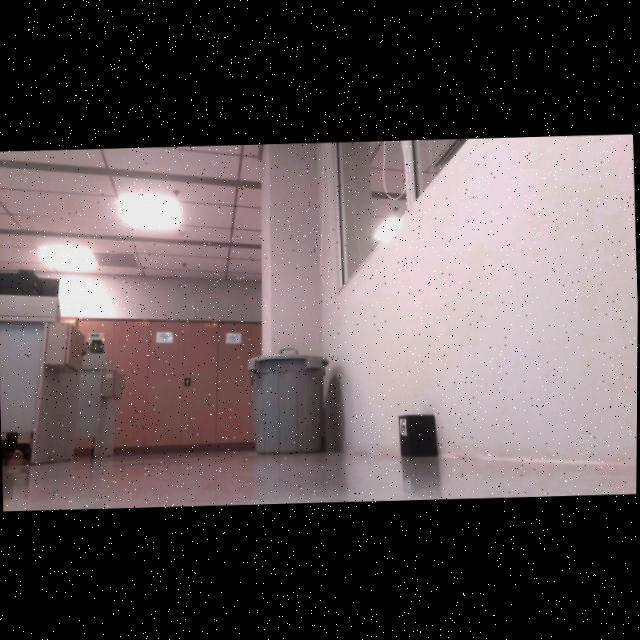G: (401, 419, 405, 431)
